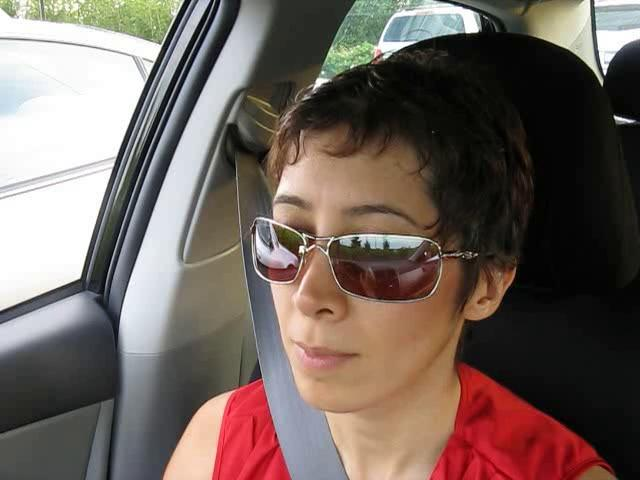no_yawn: (271, 325, 375, 382)
